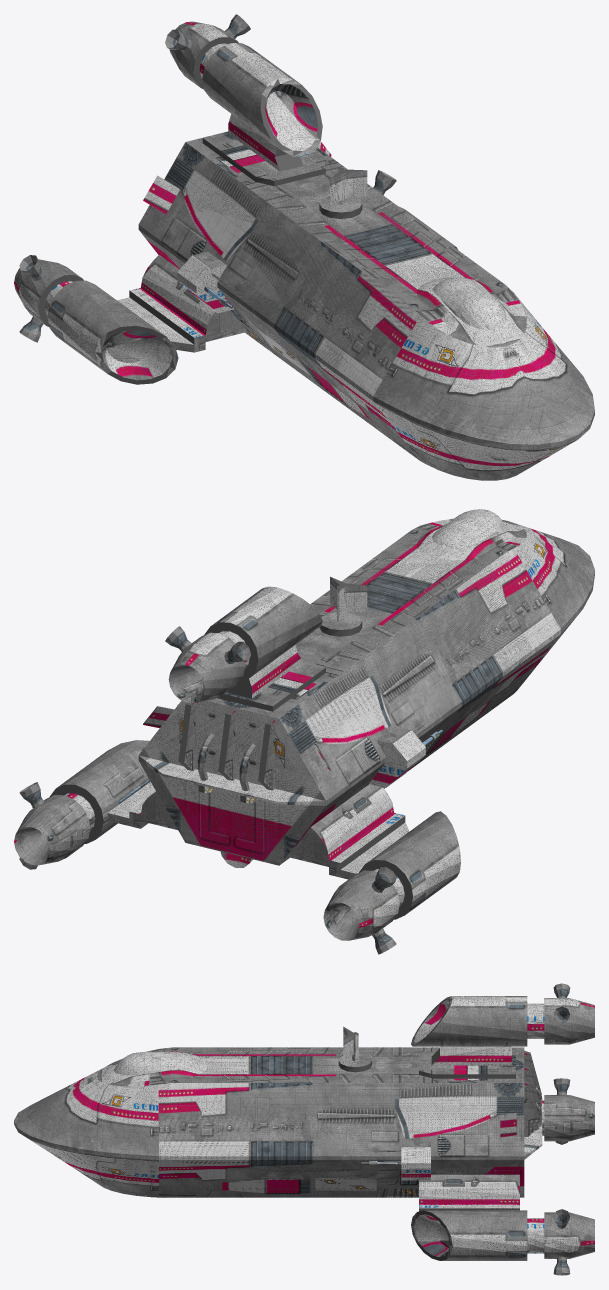
File: Geminon Transport.dae
3 views of the same model, one above another, from view 1: azimuth 30°, elevation 25°; view 2: azimuth 150°, elevation 25°; view 3: azimuth 270°, elevation 25° (orthographic). The views are drawn at different scales.
Parts seen in each view (by area): view 1: colgem1cox_1 (×14); view 2: colgem1cox_1 (×19); view 3: colgem1cox_1 (×16).
Boxes of the visible parts, box(x1,y1,x2,y2) form: colgem1cox_1 (×14): box(14, 21, 594, 480); colgem1cox_1 (×19): box(14, 509, 594, 940); colgem1cox_1 (×16): box(14, 996, 594, 1260).
Bounding box in the file's own units: 1347 × 2327 × 951.
